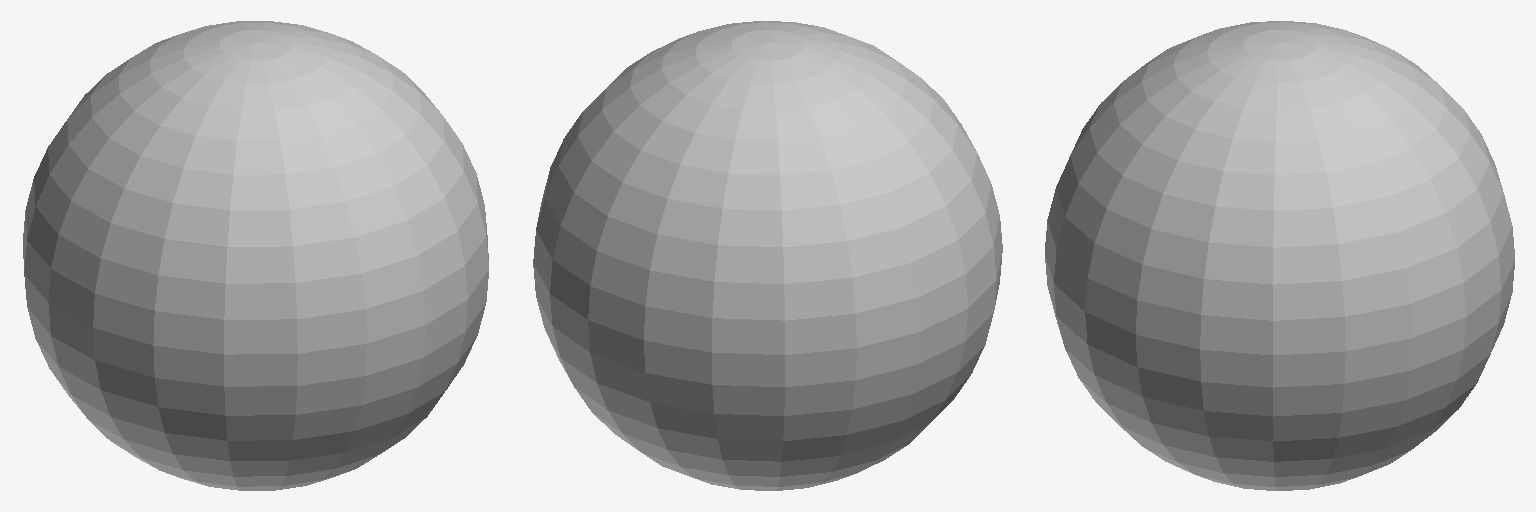
File: Earth.obj
3 views of the same model, side by side, from view 1: azimuth 30°, elevation 25°; view 2: azimuth 150°, elevation 25°; view 3: azimuth 270°, elevation 25° (orthographic).
Visible parts, largest first — view 1: pSphere1; view 2: pSphere1; view 3: pSphere1.
Boxes of the visible parts, x1=… form: pSphere1: x1=23, y1=21, x2=488, y2=490; pSphere1: x1=533, y1=21, x2=1002, y2=490; pSphere1: x1=1045, y1=21, x2=1514, y2=490.
Bounding box in the file's own units: 7.52 × 7.52 × 7.52.